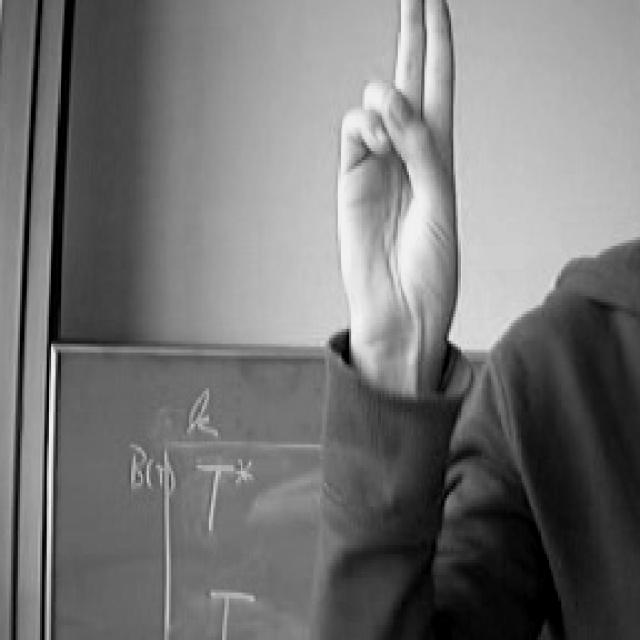U: (316, 0, 471, 344)
